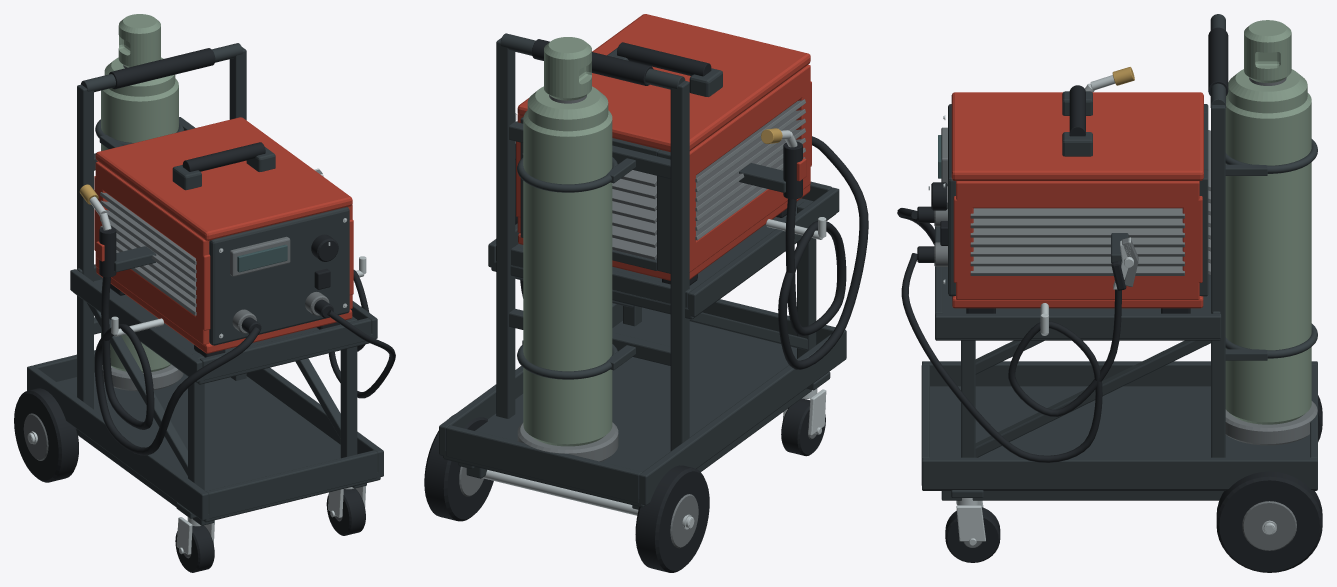
File: city-welding-machine-cart.glb
3 renders of one model, left to right at view 1: azimuth 30°, elevation 25°; view 2: azimuth 150°, elevation 25°; view 3: azimuth 270°, elevation 25°, orthographic. The views are drawn at different scales.
Visible parts, largest first — view 1: Assembly | Graphite painted frame, Assembly | Oxide red enamel, Assembly | Black cable and rubber, Assembly | Grey cast iron, Assembly | Sage cylinder enamel, Assembly | Satin steel, Assembly | Unlit opaque display; view 2: Assembly | Graphite painted frame, Assembly | Sage cylinder enamel, Assembly | Oxide red enamel, Assembly | Black cable and rubber, Assembly | Grey cast iron, Assembly | Satin steel; view 3: Assembly | Graphite painted frame, Assembly | Oxide red enamel, Assembly | Sage cylinder enamel, Assembly | Grey cast iron, Assembly | Black cable and rubber, Assembly | Satin steel.
Boxes of the visible parts, bbox=[...] form: Assembly | Graphite painted frame: bbox=[27, 43, 383, 525]; Assembly | Oxide red enamel: bbox=[94, 117, 353, 353]; Assembly | Black cable and rubber: bbox=[14, 48, 395, 572]; Assembly | Grey cast iron: bbox=[23, 65, 342, 558]; Assembly | Sage cylinder enamel: bbox=[101, 14, 178, 372]; Assembly | Satin steel: bbox=[27, 168, 366, 554]; Assembly | Unlit opaque display: bbox=[237, 244, 287, 272]; Assembly | Graphite painted frame: bbox=[439, 33, 846, 509]; Assembly | Sage cylinder enamel: bbox=[523, 37, 612, 446]; Assembly | Oxide red enamel: bbox=[516, 14, 811, 280]; Assembly | Black cable and rubber: bbox=[424, 39, 868, 572]; Assembly | Grey cast iron: bbox=[459, 95, 816, 548]; Assembly | Satin steel: bbox=[483, 113, 826, 529]; Assembly | Graphite painted frame: bbox=[921, 14, 1317, 500]; Assembly | Oxide red enamel: bbox=[951, 92, 1203, 308]; Assembly | Sage cylinder enamel: bbox=[1225, 20, 1311, 424]; Assembly | Grey cast iron: bbox=[934, 77, 1317, 550]; Assembly | Black cable and rubber: bbox=[897, 27, 1322, 572]; Assembly | Satin steel: bbox=[928, 75, 1276, 545].
Bounding box in the file's own units: 0.722 × 1.18 × 0.9292.
